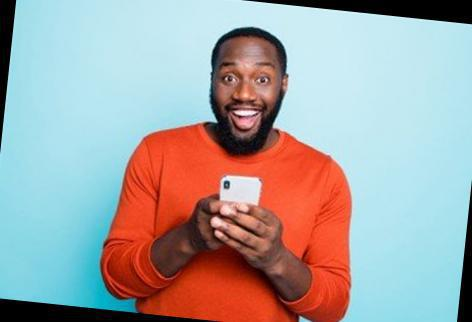Sober: (217, 37, 278, 138)
